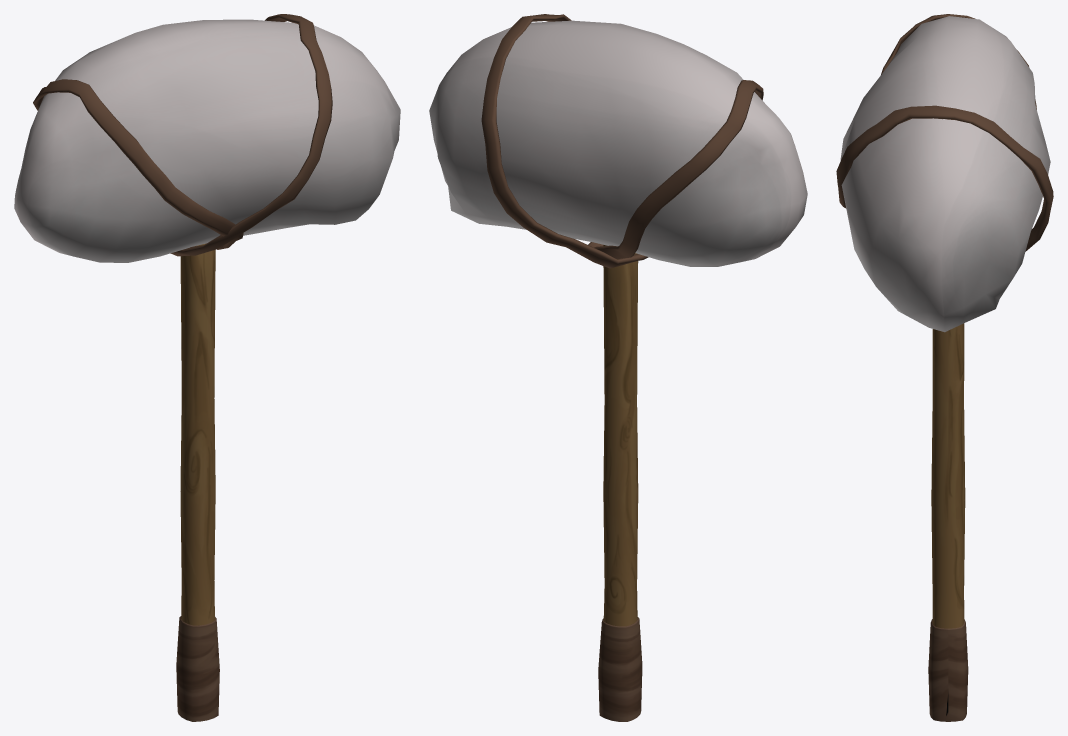
File: Hammer_Texture.fbx
The picture shows the model from 3 angles, left to right: view 1: azimuth 30°, elevation 25°; view 2: azimuth 150°, elevation 25°; view 3: azimuth 270°, elevation 25°; orthographic projection. The views are drawn at different scales.
Visible parts, largest first — view 1: Hammer1; view 2: Hammer1; view 3: Hammer1.
Boxes of the visible parts, <box> form: Hammer1: <box>14,14,400,721</box>; Hammer1: <box>429,14,807,721</box>; Hammer1: <box>836,14,1053,721</box>.
Size of the model in its own units: 1.02 by 1.79 by 0.5304.
1 material, 1 textured.
